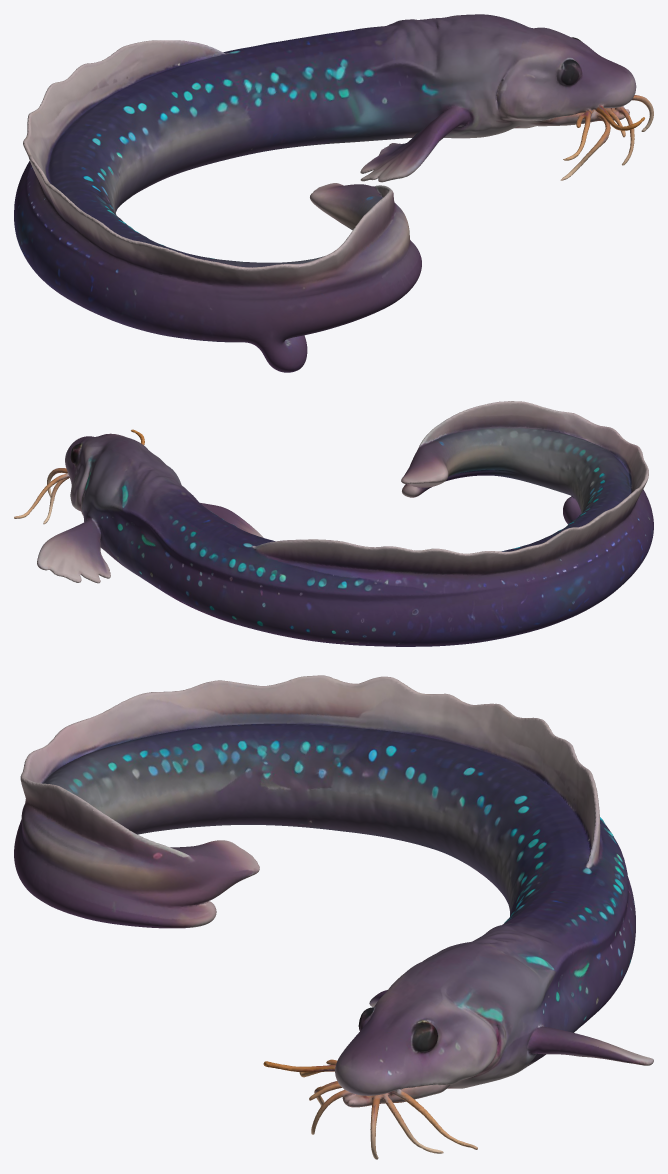
The model's file is hag_a.glb.
3 views of the same model, one above another, from view 1: azimuth 30°, elevation 25°; view 2: azimuth 150°, elevation 25°; view 3: azimuth 270°, elevation 25° (orthographic). The views are drawn at different scales.
Visible parts, largest first — view 1: tripo_node_2ab4e19d-8193-498c-bf23-7b9a6bb112a2; view 2: tripo_node_2ab4e19d-8193-498c-bf23-7b9a6bb112a2; view 3: tripo_node_2ab4e19d-8193-498c-bf23-7b9a6bb112a2.
Part boxes in pixels (bbox=[...]): tripo_node_2ab4e19d-8193-498c-bf23-7b9a6bb112a2: bbox=[14, 14, 653, 372]; tripo_node_2ab4e19d-8193-498c-bf23-7b9a6bb112a2: bbox=[14, 401, 653, 646]; tripo_node_2ab4e19d-8193-498c-bf23-7b9a6bb112a2: bbox=[14, 675, 653, 1159].
Size of the model in its own units: 1 by 0.2076 by 0.7468.
1 material, 1 textured.
